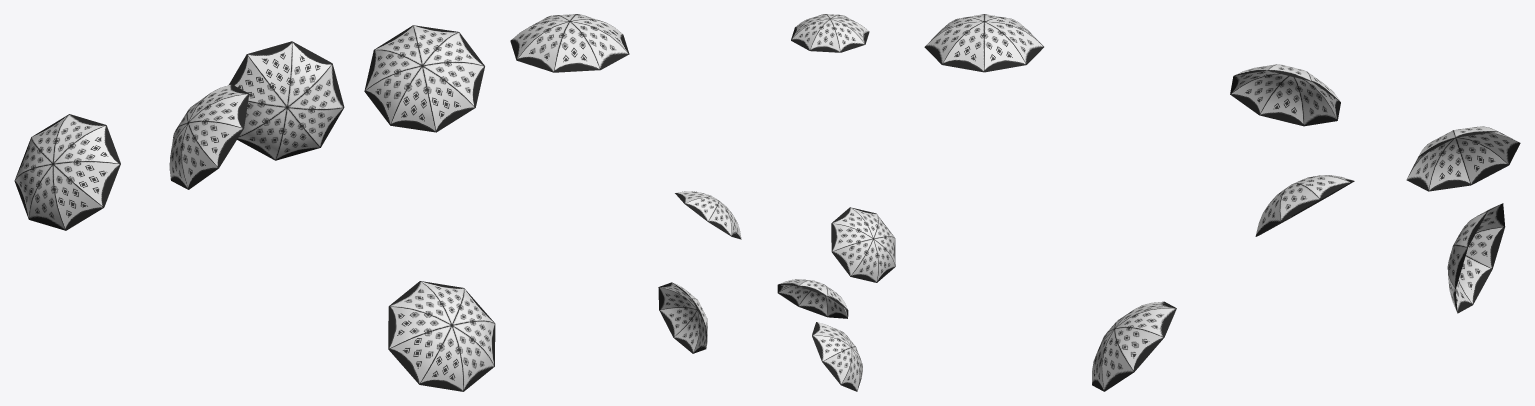
The model's file is ombrello_04.dae.
The picture shows the model from 3 angles, left to right: view 1: azimuth 30°, elevation 25°; view 2: azimuth 150°, elevation 25°; view 3: azimuth 270°, elevation 25°; orthographic projection. The views are drawn at different scales.
Parts seen in each view (by area): view 1: ombrello_01 (×4), ombrello_01.34, ombrello_01.7, ombrello_01.9, ombrello_01.10, ombrello_01.33, ombrello_01.8, ombrello_01.30, ombrello_01.6, ombrello_01.17, ombrello_01.29, ombrello_01.35 (+26 smaller); view 2: ombrello_01 (×5), ombrello_01.21, ombrello_01.20, ombrello_01.27, ombrello_01.22, ombrello_01.38, ombrello_01.37, ombrello_01.26, ombrello_01.28, ombrello_01.19, ombrello_01.1, ombrello_01.14 (+13 smaller); view 3: ombrello_01 (×4), ombrello_01.23, ombrello_01.40, ombrello_01.39, ombrello_01.3, ombrello_01.24, ombrello_01.22, ombrello_01.2, ombrello_01.32, ombrello_01.4, ombrello_01.25, ombrello_01.12 (+5 smaller).
Boxes of the visible parts, x1,y1,x2,y2 form: ombrello_01 (×4): (510, 21, 629, 72); ombrello_01.34: (53, 161, 120, 207); ombrello_01.7: (388, 325, 451, 384); ombrello_01.9: (390, 66, 436, 132); ombrello_01.10: (422, 66, 475, 132); ombrello_01.33: (53, 164, 103, 230); ombrello_01.8: (419, 326, 463, 391); ombrello_01.30: (247, 41, 291, 106); ombrello_01.6: (388, 306, 451, 349); ombrello_01.17: (188, 121, 243, 167); ombrello_01.29: (287, 41, 332, 106); ombrello_01.35: (53, 125, 120, 163); ombrello_01 (×5): (791, 17, 869, 52); ombrello_01.21: (832, 239, 873, 276); ombrello_01.20: (831, 223, 872, 251); ombrello_01.27: (659, 307, 696, 337); ombrello_01.22: (850, 239, 878, 282); ombrello_01.38: (822, 347, 851, 384); ombrello_01.37: (812, 335, 851, 361); ombrello_01.26: (673, 310, 699, 353); ombrello_01.28: (658, 287, 696, 309); ombrello_01.19: (832, 207, 873, 238); ombrello_01.1: (798, 291, 827, 316); ombrello_01.14: (685, 197, 718, 221); ombrello_01 (×4): (924, 21, 1043, 72); ombrello_01.23: (1259, 76, 1303, 126); ombrello_01.40: (1428, 138, 1470, 191); ombrello_01.39: (1456, 137, 1508, 185); ombrello_01.3: (1114, 327, 1164, 371); ombrello_01.24: (1230, 73, 1288, 114); ombrello_01.22: (1294, 77, 1337, 126); ombrello_01.2: (1102, 329, 1134, 391); ombrello_01.32: (1466, 227, 1504, 268); ombrello_01.4: (1115, 308, 1176, 337); ombrello_01.25: (1458, 256, 1492, 304); ombrello_01.12: (1280, 183, 1320, 221).
Size of the model in its own units: 673 by 713 by 993.
1 material, 1 textured.
